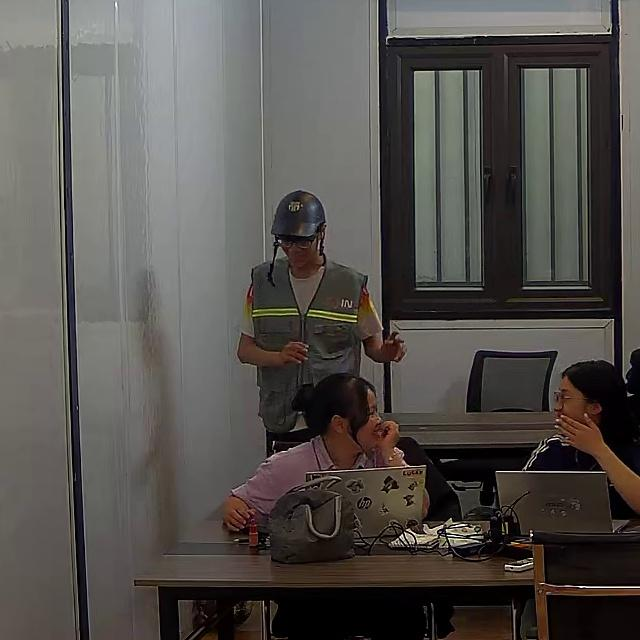helmet: (270, 189, 327, 237)
no_helmet: (558, 360, 636, 437), (292, 372, 371, 438)
none: (227, 435, 400, 531), (523, 431, 638, 521)
vest: (252, 257, 363, 425)
